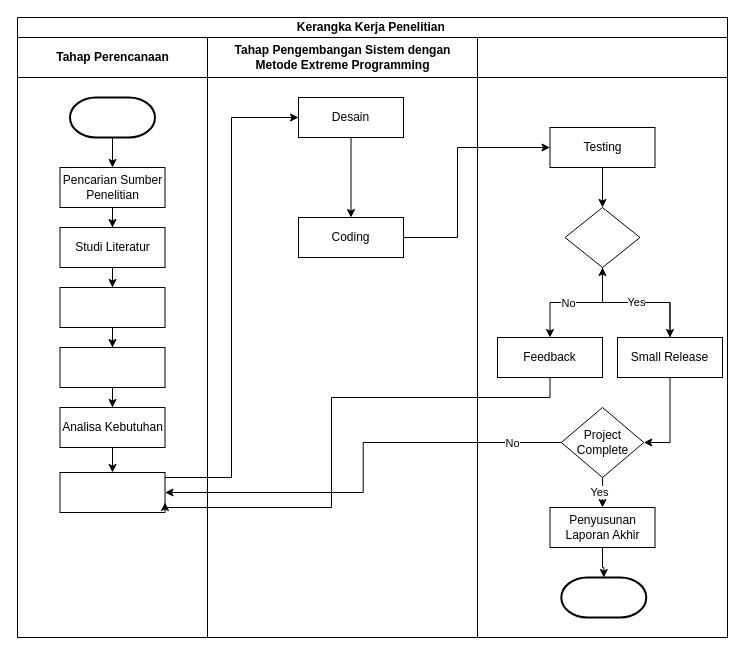
The diagram is 745 pixels wide and 655 high, and some of its shapes have lost their labels. The shapes that lost their labels are listed below. From the top down, each one's box as (x1, y1, x2, y2) in pixels, then its label:
(68, 96, 156, 138): Start
(564, 206, 640, 268): Release
(59, 286, 165, 328): Pengumpulan Data
(476, 36, 728, 638): Tahap Akhir
(59, 346, 165, 388): Identifikasi Masalah
(59, 472, 165, 512): Release Planning
(560, 576, 647, 618): End
